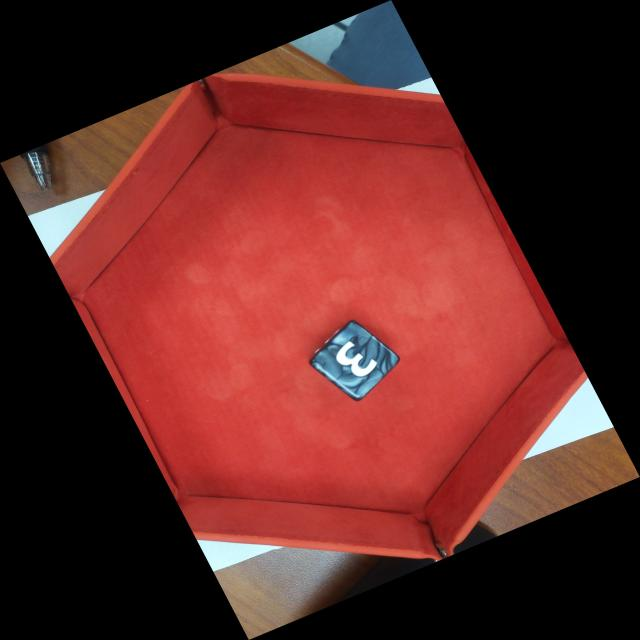dice: (315, 320, 404, 398)
